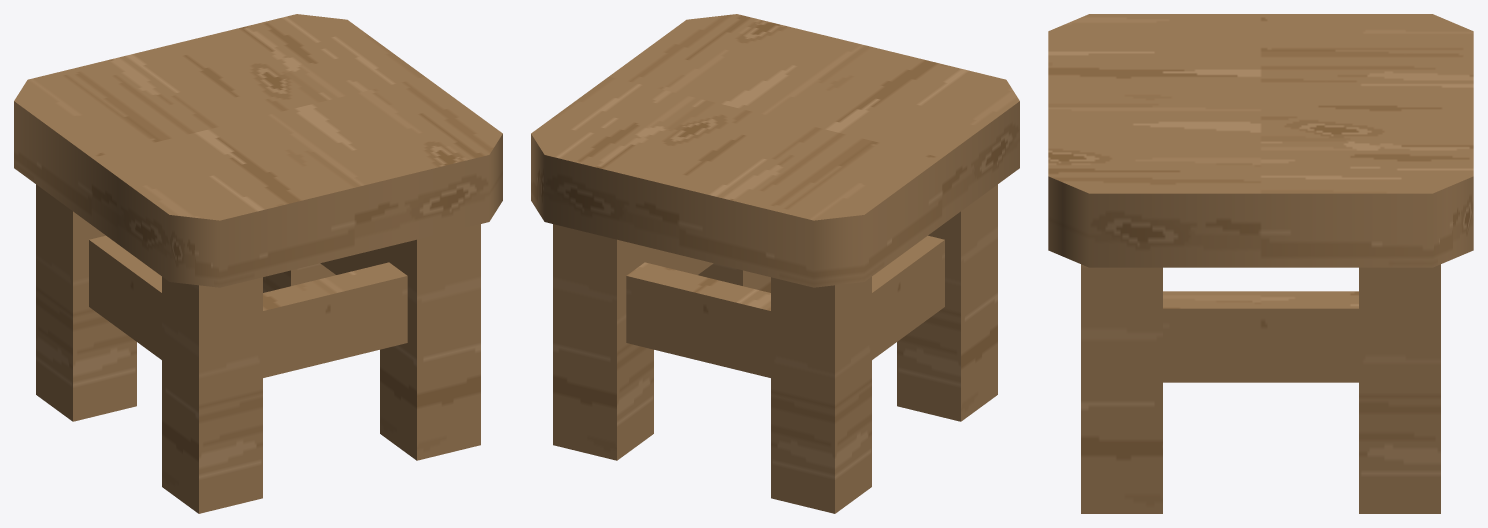
The model's file is stall-stool.gltf.
3 views of the same model, side by side, from view 1: azimuth 30°, elevation 25°; view 2: azimuth 150°, elevation 25°; view 3: azimuth 270°, elevation 25° (orthographic). The views are drawn at different scales.
Visible parts, largest first — view 1: stall-stool; view 2: stall-stool; view 3: stall-stool.
Boxes of the visible parts, <box> form: stall-stool: <box>14,14,502,513</box>; stall-stool: <box>531,14,1019,513</box>; stall-stool: <box>1048,14,1473,513</box>.
Size of the model in its own units: 0.26 by 0.2255 by 0.26.
Materials: 1 (1 with a texture image).
